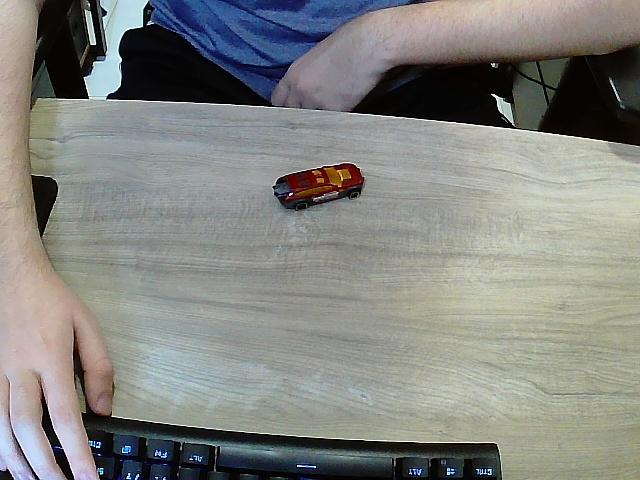Carro: (272, 164, 365, 212)
